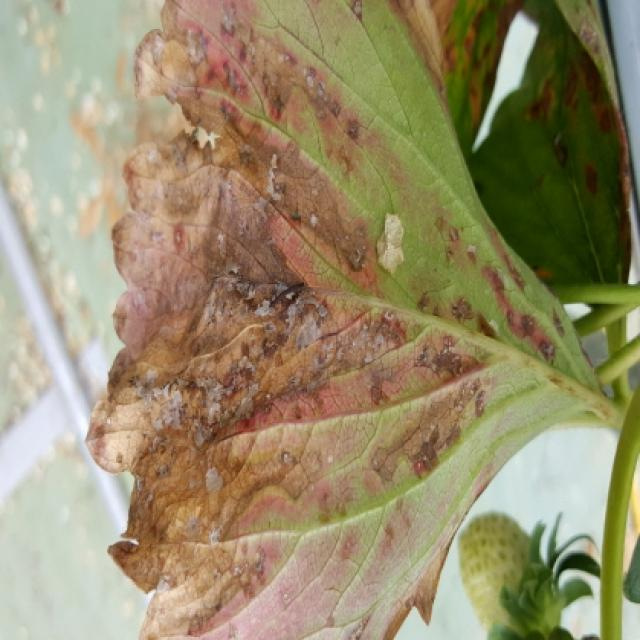Angular Leafspot: (83, 0, 616, 638), (443, 1, 633, 288)
